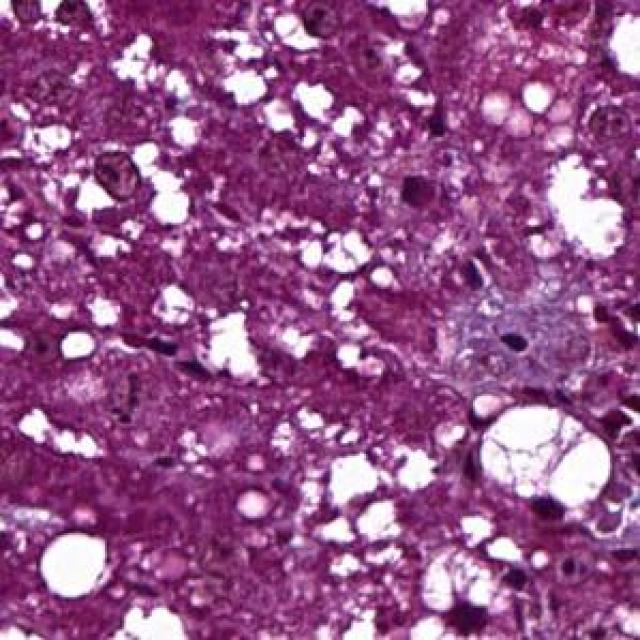ballooning: (479, 398, 618, 527), (404, 546, 531, 640)
